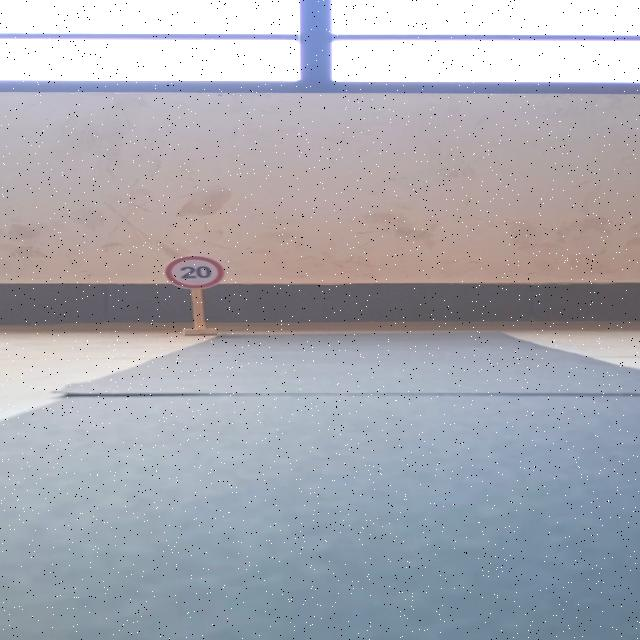Speed20: (162, 254, 228, 290)
